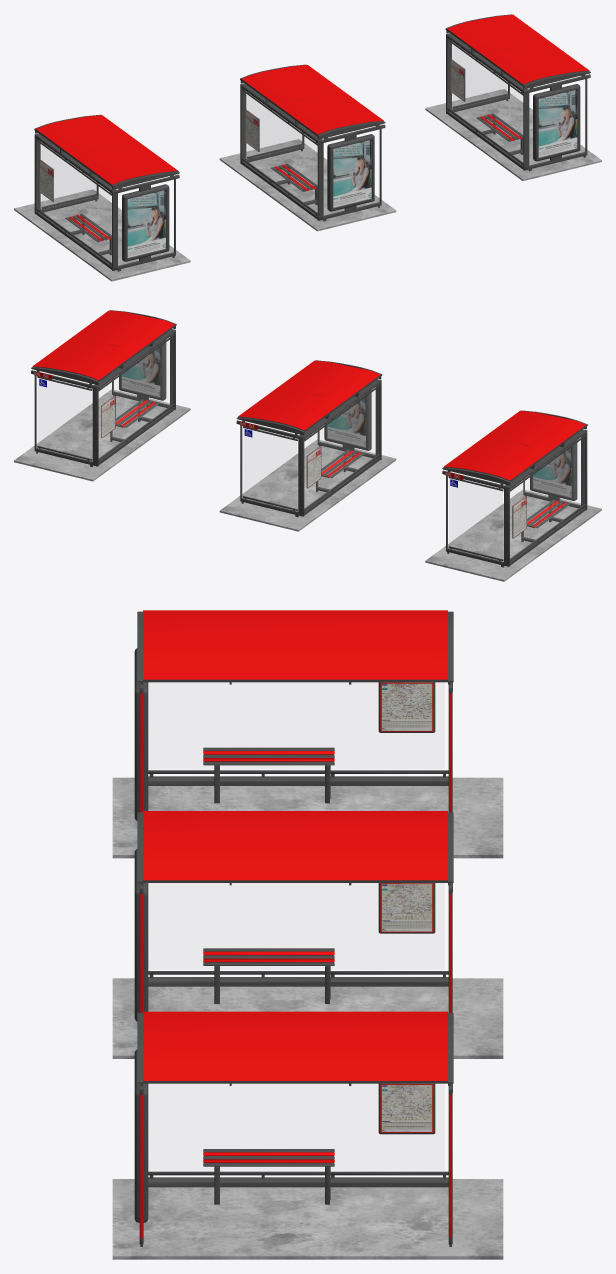
The model's file is abribus.glb.
The picture shows the model from 3 angles, top to bottom: view 1: azimuth 30°, elevation 25°; view 2: azimuth 150°, elevation 25°; view 3: azimuth 270°, elevation 25°; orthographic projection. The views are drawn at different scales.
Visible parts, largest first — view 1: Cube_13_Mat.2_0 (×3), Cube_18_Mat.1_0 (×3), Cube_4_Mat.6_0 (×3), Cube_1_Mat_0 (×3), Cube_11_Mat.3_0 (×3), Cube_12_2_Mat.4_0 (×3); view 2: Cube_13_Mat.2_0 (×3), Cube_1_Mat_0 (×3), Cube_18_Mat.1_0 (×3), Cube_4_Mat.6_0 (×3), Cube_11_Mat.3_0 (×3), Cube_12_2_Mat.4_0 (×3); view 3: Cube_4_Mat.6_0 (×3), Cube_13_Mat.2_0 (×3), Cube_1_Mat_0 (×3), Cube_18_Mat.1_0 (×3), Cube_12_2_Mat.4_0 (×3), Cube_16_Mat.7_0 (×3).
Boxes of the visible parts, x1,y1,x2,y2 form: Cube_13_Mat.2_0 (×3): (37,42,576,261); Cube_18_Mat.1_0 (×3): (34,14,590,271); Cube_4_Mat.6_0 (×3): (36,14,589,184); Cube_1_Mat_0 (×3): (14,89,601,281); Cube_11_Mat.3_0 (×3): (127,89,577,257); Cube_12_2_Mat.4_0 (×3): (40,59,464,201); Cube_13_Mat.2_0 (×3): (38,338,584,558); Cube_1_Mat_0 (×3): (14,389,601,581); Cube_18_Mat.1_0 (×3): (31,310,587,567); Cube_4_Mat.6_0 (×3): (33,310,585,480); Cube_11_Mat.3_0 (×3): (122,344,571,497); Cube_12_2_Mat.4_0 (×3): (101,396,526,537); Cube_4_Mat.6_0 (×3): (143,610,447,1080); Cube_13_Mat.2_0 (×3): (149,683,444,1169); Cube_1_Mat_0 (×3): (112,777,503,1259); Cube_18_Mat.1_0 (×3): (134,611,453,1246); Cube_12_2_Mat.4_0 (×3): (380,682,433,1132); Cube_16_Mat.7_0 (×3): (140,693,451,1237).
Bounding box in the file's own units: 15.5 × 2.75 × 5.35.
Materials: 9 (5 with a texture image).
